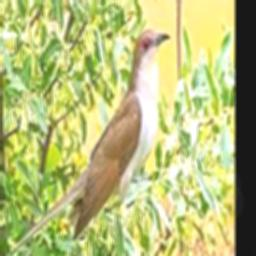Cuckoo: (2, 29, 171, 256)
